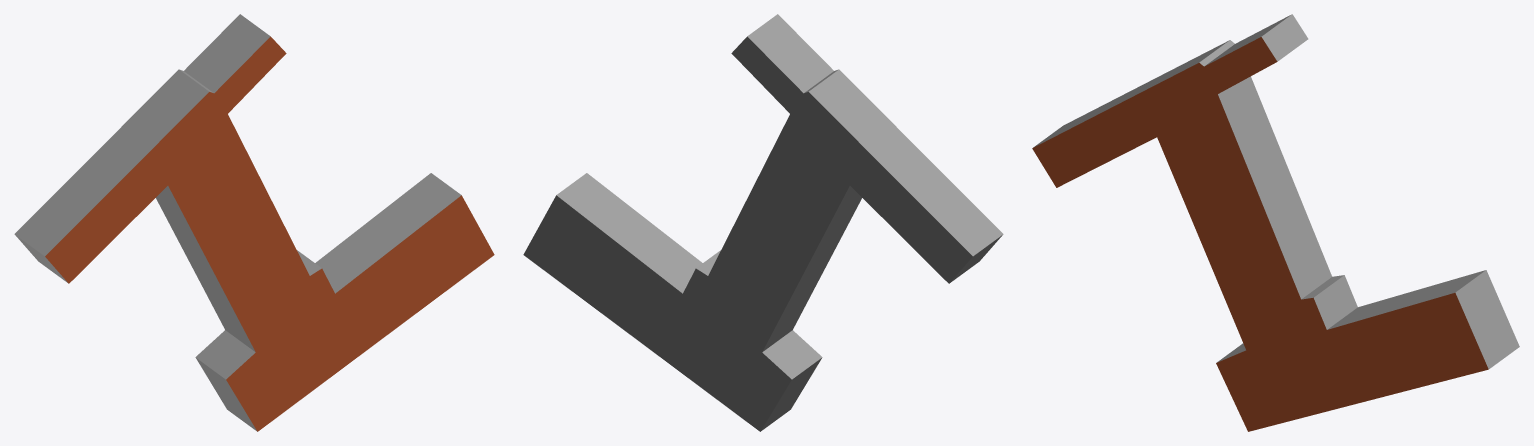
The model's file is construction_4878_assumed_A_Casa_h6m.obj.
3 renders of one model, left to right at view 1: azimuth 30°, elevation 25°; view 2: azimuth 150°, elevation 25°; view 3: azimuth 330°, elevation 25°, orthographic.
Visible parts, largest first — view 1: construction_4878_assumed_A_Casa; view 2: construction_4878_assumed_A_Casa; view 3: construction_4878_assumed_A_Casa.
Boxes of the visible parts, x1,y1,x2,y2 form: construction_4878_assumed_A_Casa: (14,14,494,431); construction_4878_assumed_A_Casa: (523,14,1003,431); construction_4878_assumed_A_Casa: (1032,14,1519,431).
Bounding box in the file's own units: 50.9 × 42.44 × 6.
